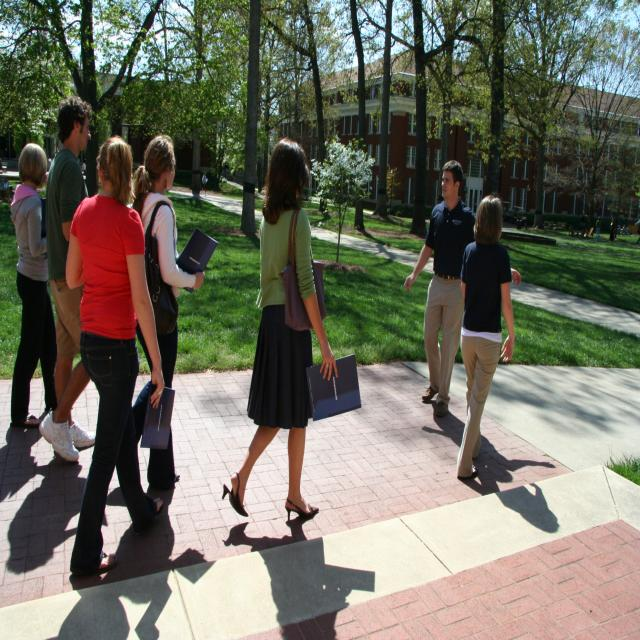body: (0, 362, 640, 636), (63, 130, 169, 585), (220, 135, 340, 527), (402, 156, 522, 420), (129, 132, 207, 493), (36, 90, 103, 467), (455, 194, 516, 484), (8, 140, 59, 435), (40, 151, 101, 181), (571, 214, 591, 239), (594, 215, 602, 242), (200, 171, 208, 197), (609, 217, 615, 243), (634, 220, 640, 245), (524, 213, 530, 230)
